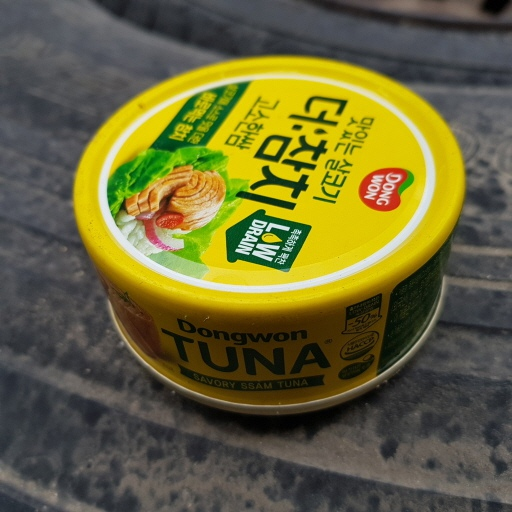Metal_1: (64, 55, 468, 412)
